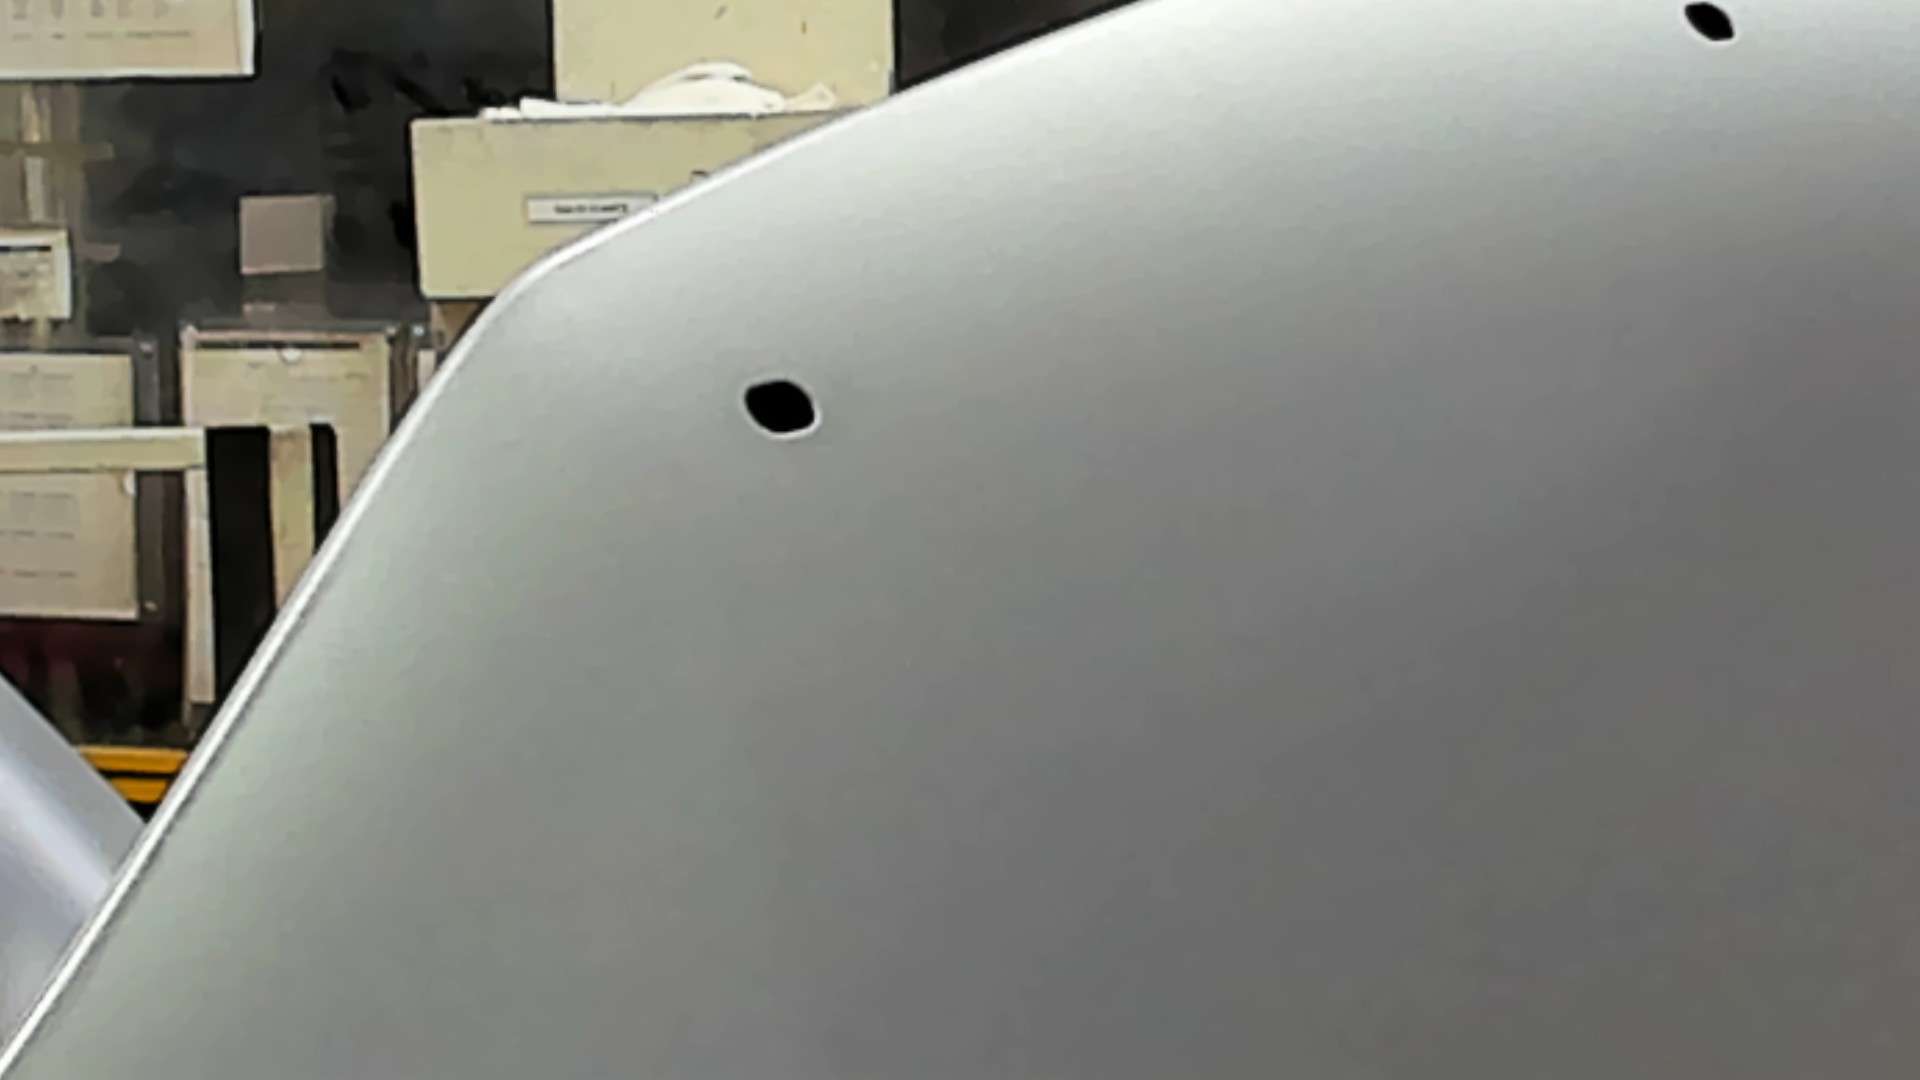amorfo: (729, 375, 829, 440), (1679, 1, 1743, 50)
